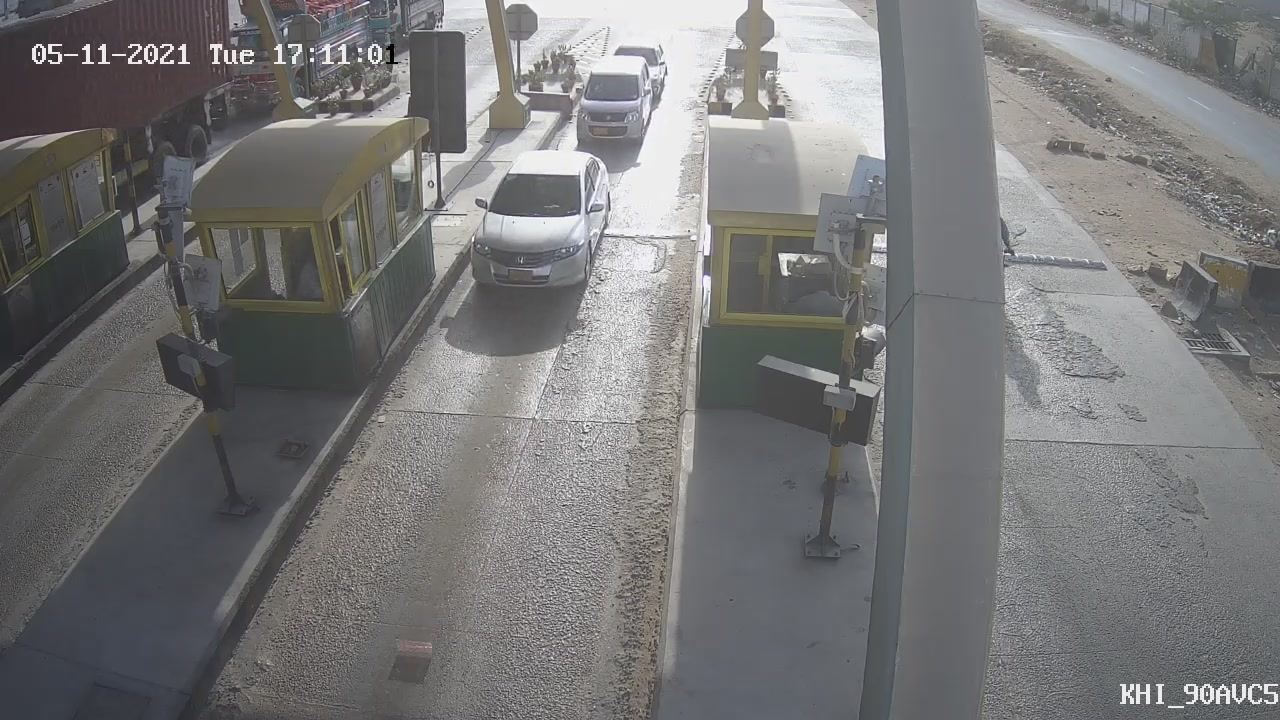F1: (440, 135, 633, 313), (555, 42, 674, 157)
